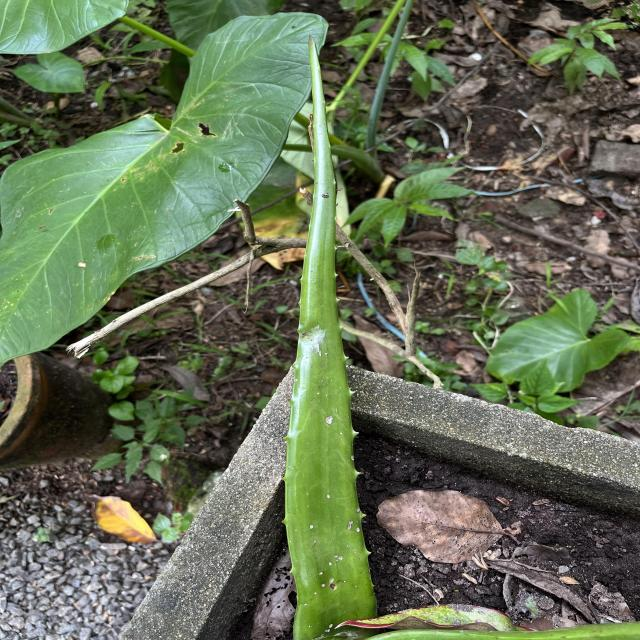Aloe vera: (274, 29, 384, 632)
